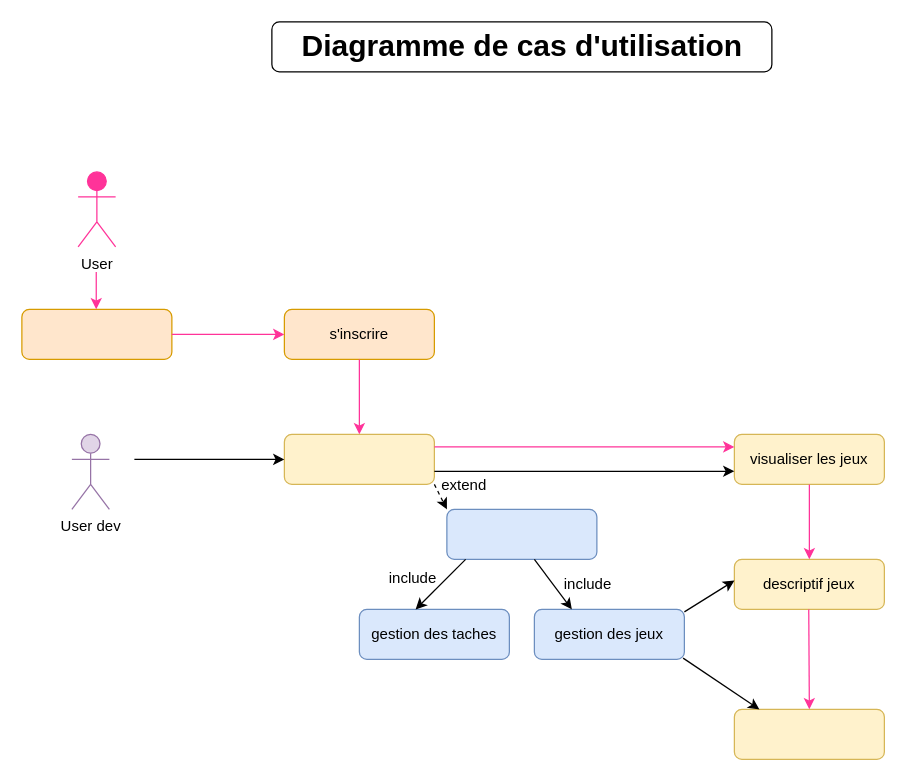
Image size: 906x781. Some labels were removed from this diagram. Here are the shapes that lost their labels. From the top down, the centre of each, then its label:
the point at 96,333: consulter accueil
the point at 358,458: se connecter
the point at 521,533: gestion projet
the point at 808,733: se deconnecter
